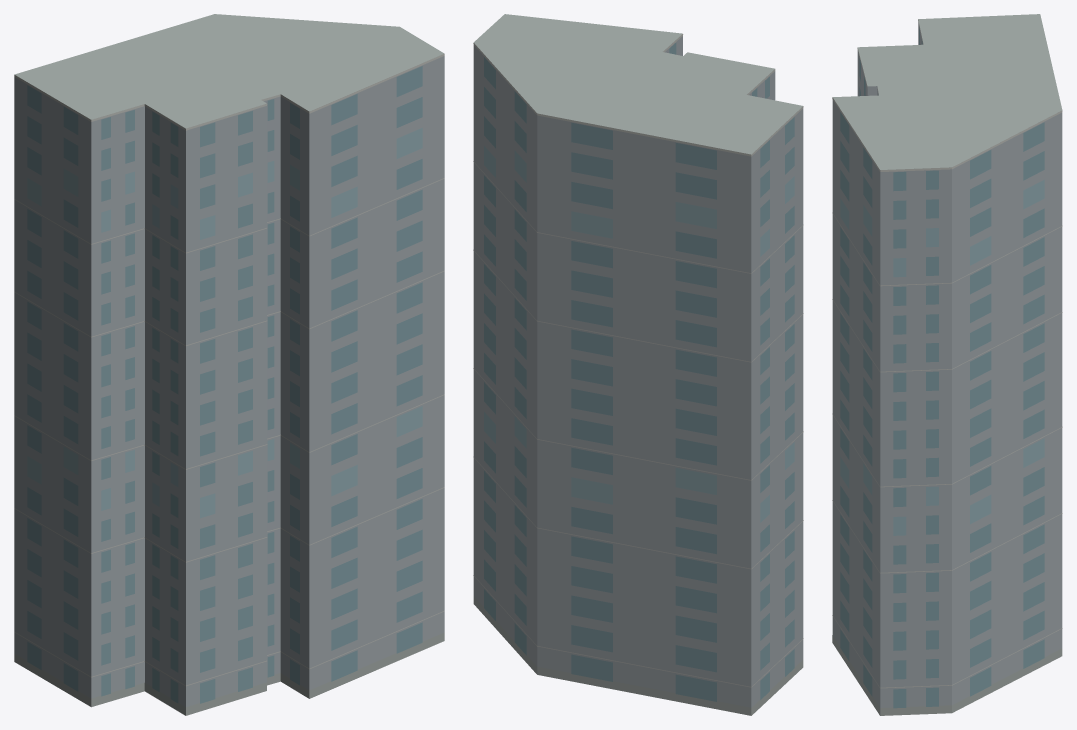
The model's file is survey-upis-32623216.glb.
3 views of the same model, side by side, from view 1: azimuth 30°, elevation 25°; view 2: azimuth 150°, elevation 25°; view 3: azimuth 270°, elevation 25° (orthographic). The views are drawn at different scales.
Parts seen in each view (by area): view 1: survey-upis-32623216.tmp; view 2: survey-upis-32623216.tmp; view 3: survey-upis-32623216.tmp.
Part boxes in pixels (<box>): survey-upis-32623216.tmp: <box>14,14,444,715</box>; survey-upis-32623216.tmp: <box>473,14,803,715</box>; survey-upis-32623216.tmp: <box>832,14,1062,715</box>.
Size of the model in its own units: 39.74 by 64.75 by 24.74.
